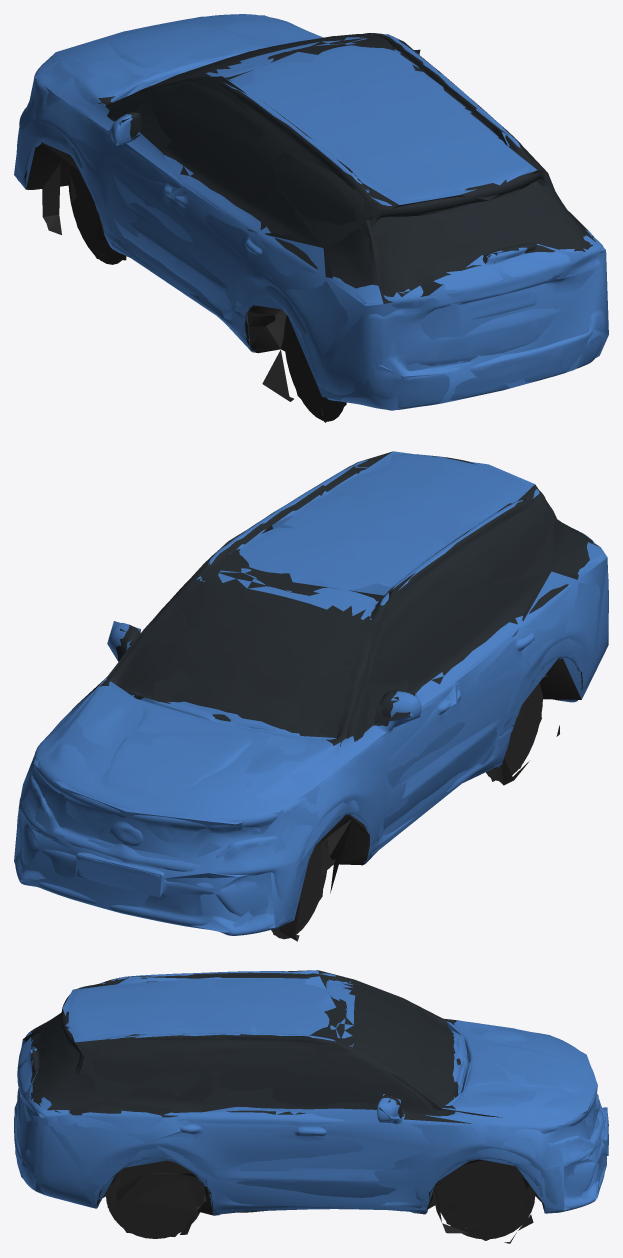
File: kia-sorento.glb
3 views of the same model, one above another, from view 1: azimuth 30°, elevation 25°; view 2: azimuth 150°, elevation 25°; view 3: azimuth 270°, elevation 25° (orthographic). The views are drawn at different scales.
Parts seen in each view (by area): view 1: body, far; view 2: body, far; view 3: body, far.
Part boxes in pixels (<box>): body: <box>16,14,605,421</box>; far: <box>14,15,608,422</box>; body: <box>15,454,608,941</box>; far: <box>14,451,608,937</box>; body: <box>14,971,608,1243</box>; far: <box>14,970,608,1243</box>.
Bounding box in the file's own units: 2.21 × 1.81 × 4.82.
